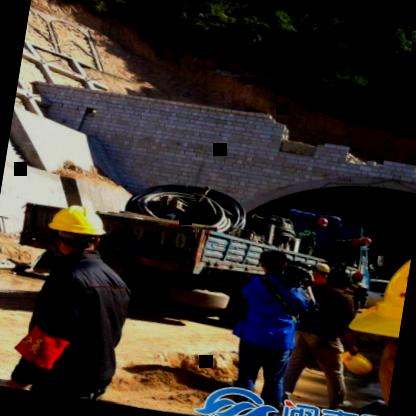head: (250, 242, 296, 280)
helmet: (331, 227, 414, 416), (43, 200, 111, 258), (309, 259, 332, 281), (349, 233, 374, 252), (310, 213, 332, 232)
